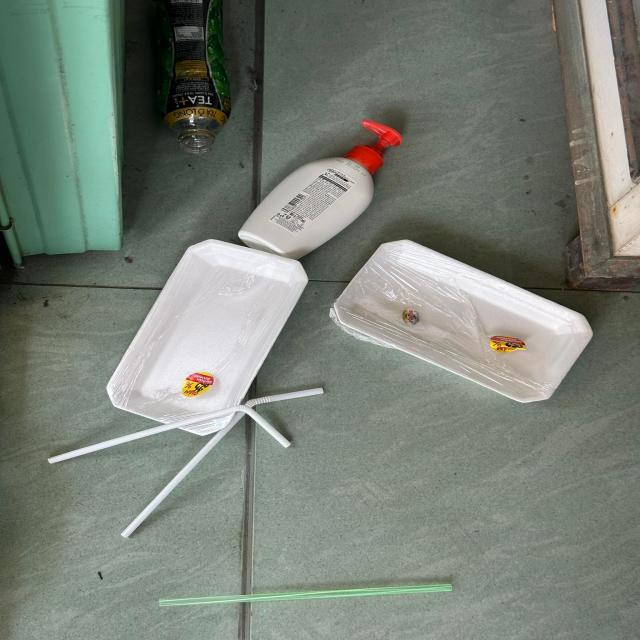bottle: (238, 119, 403, 260), (153, 0, 231, 155)
drinking straw: (120, 387, 324, 538), (47, 404, 292, 464), (158, 583, 453, 607)
foam box: (334, 239, 594, 403), (106, 239, 310, 436)
